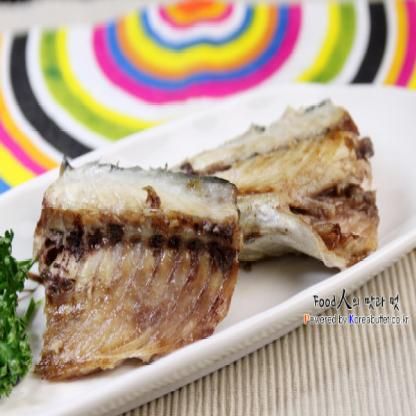Peixe: (27, 92, 390, 384)
